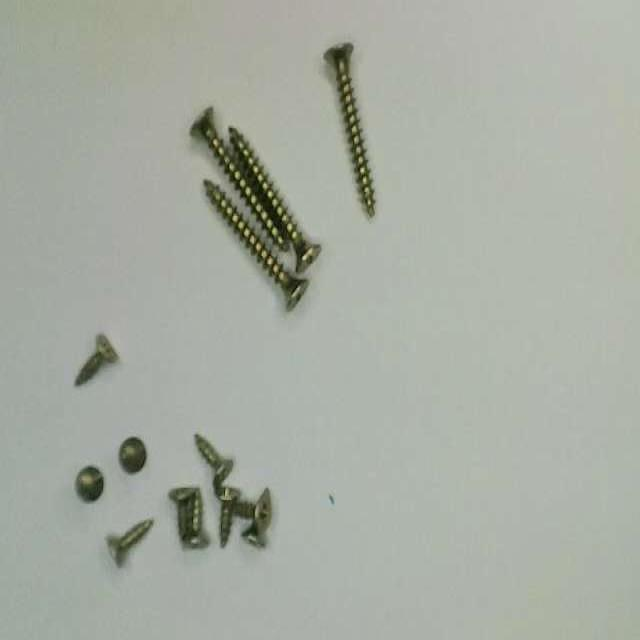Parafuso: (190, 107, 287, 250), (203, 180, 308, 310), (229, 127, 320, 271), (324, 43, 374, 217), (194, 434, 233, 493), (75, 334, 118, 386), (106, 520, 152, 566), (234, 488, 271, 533), (216, 484, 240, 547), (185, 490, 208, 547), (169, 487, 193, 533), (75, 466, 103, 502), (119, 436, 146, 473), (243, 523, 265, 547)
